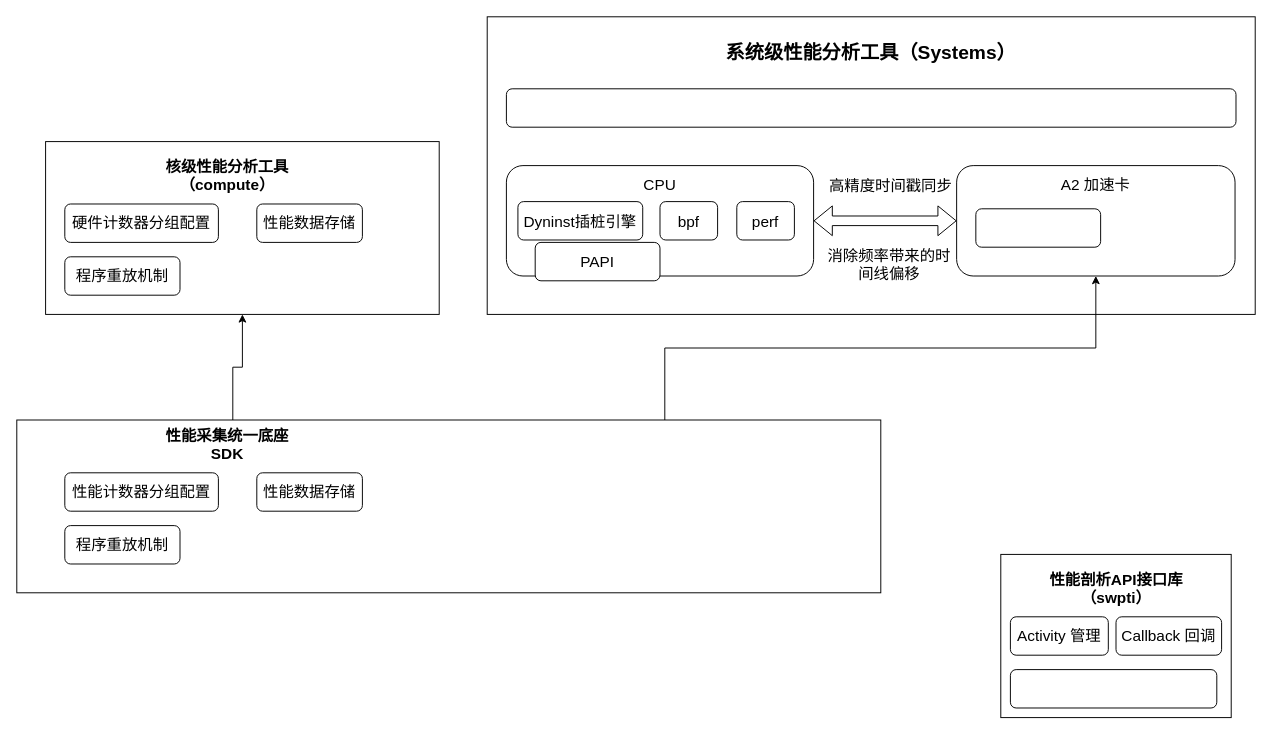
This 1272x734 diagram has some shape labels left out. The centre of each missing label's shape, as x and y in pixels:
"GUI 可视化界面" goes at pixel 870 107.
"PC采样" goes at pixel 1038 227.
"sdaa API拦截" goes at pixel 1113 688.
